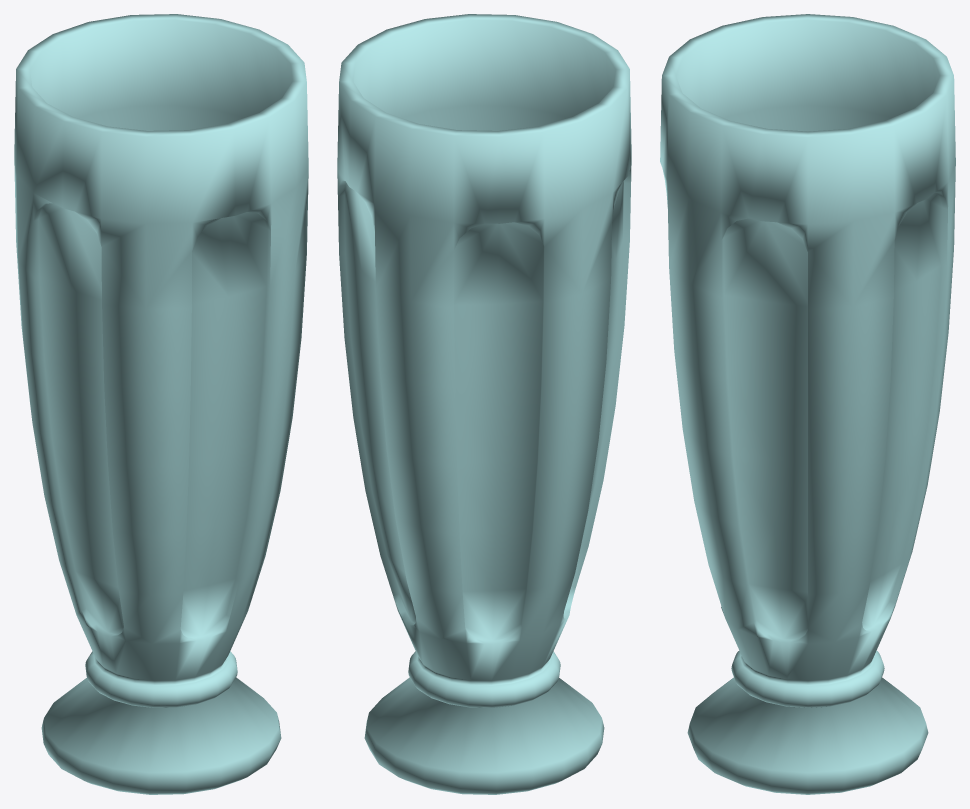
The model's file is SmoothieGlassEmpty.fbx.
3 renders of one model, left to right at view 1: azimuth 30°, elevation 25°; view 2: azimuth 150°, elevation 25°; view 3: azimuth 270°, elevation 25°, orthographic.
Visible parts, largest first — view 1: polySurface21; view 2: polySurface21; view 3: polySurface21.
Part boxes in pixels (x1,y1,x2,y2): polySurface21: [14, 14, 308, 794]; polySurface21: [337, 14, 631, 794]; polySurface21: [660, 14, 955, 794].
Bounding box in the file's own units: 2 × 5.03 × 2.
